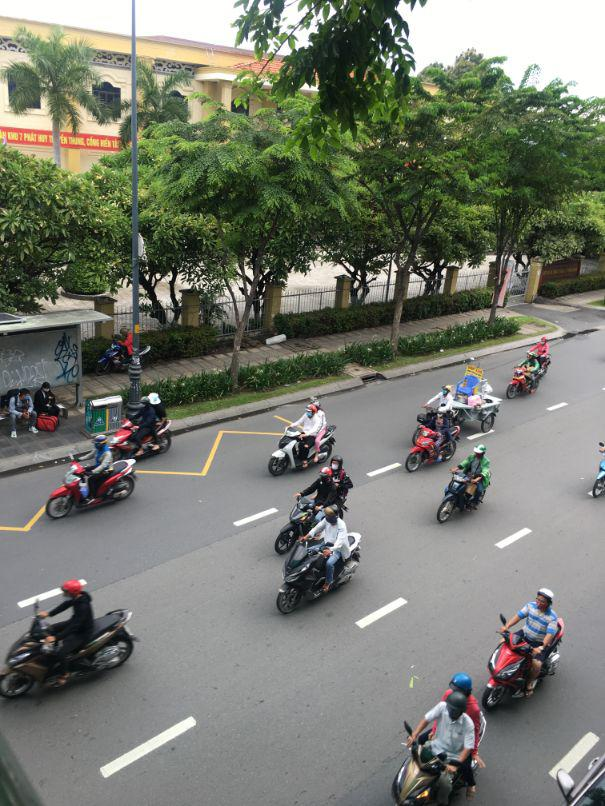motorbike: (0, 604, 138, 708), (276, 526, 360, 615), (392, 726, 484, 804), (484, 622, 562, 707), (48, 451, 138, 517), (274, 501, 345, 561), (107, 395, 172, 459), (267, 427, 334, 476), (438, 467, 490, 524), (406, 422, 460, 473), (507, 356, 547, 398), (590, 442, 604, 499)
